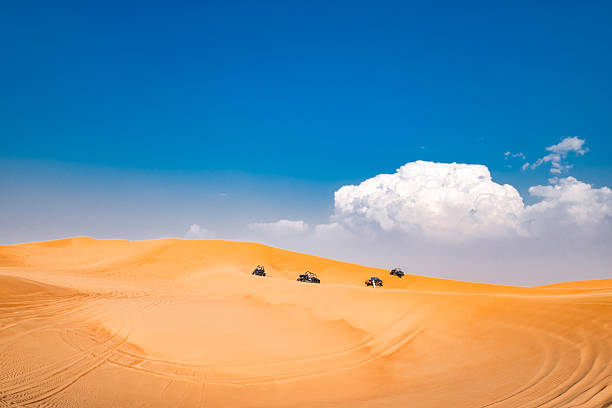vehicle_track: (109, 326, 424, 384), (0, 295, 126, 406), (481, 306, 611, 407), (0, 332, 126, 405)
